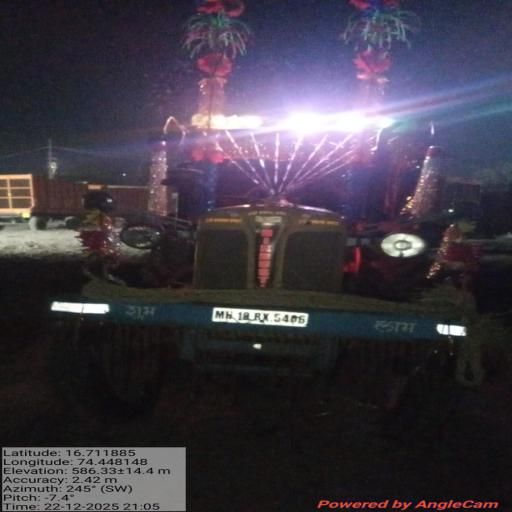number_plate: (210, 309, 324, 338)
